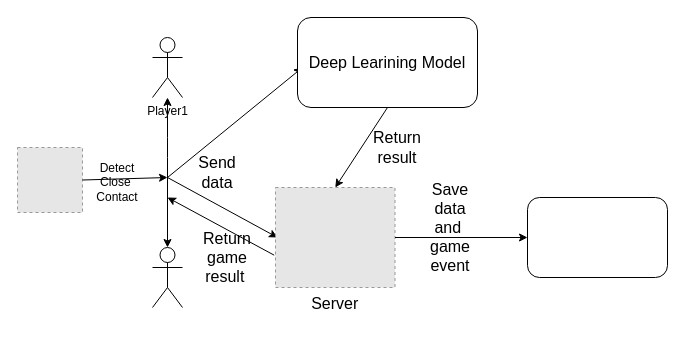
This 685x346 diagram has some shape labels left out. Grey dashed boxes stand in for pictures. The centre of each missing label's shape, as x and y in pixels:
"Database" belongs at point (597, 237).
"Player2" belongs at point (167, 277).
